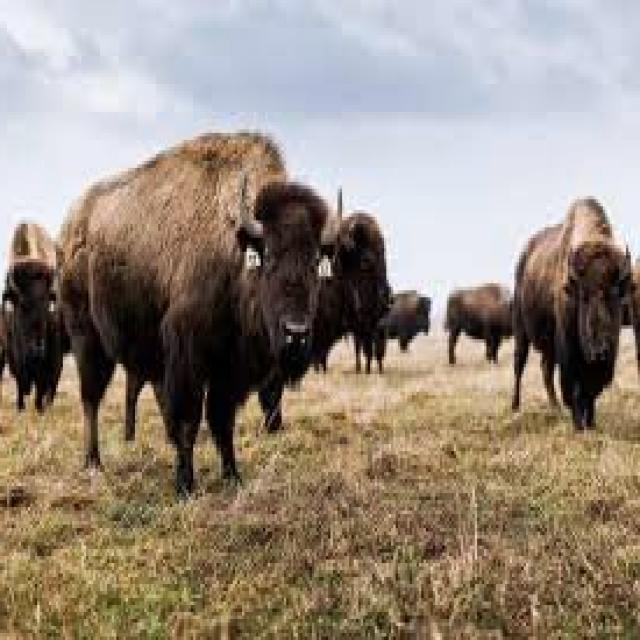bison: (61, 133, 342, 490), (512, 196, 633, 427), (2, 220, 63, 409), (317, 210, 389, 367)
